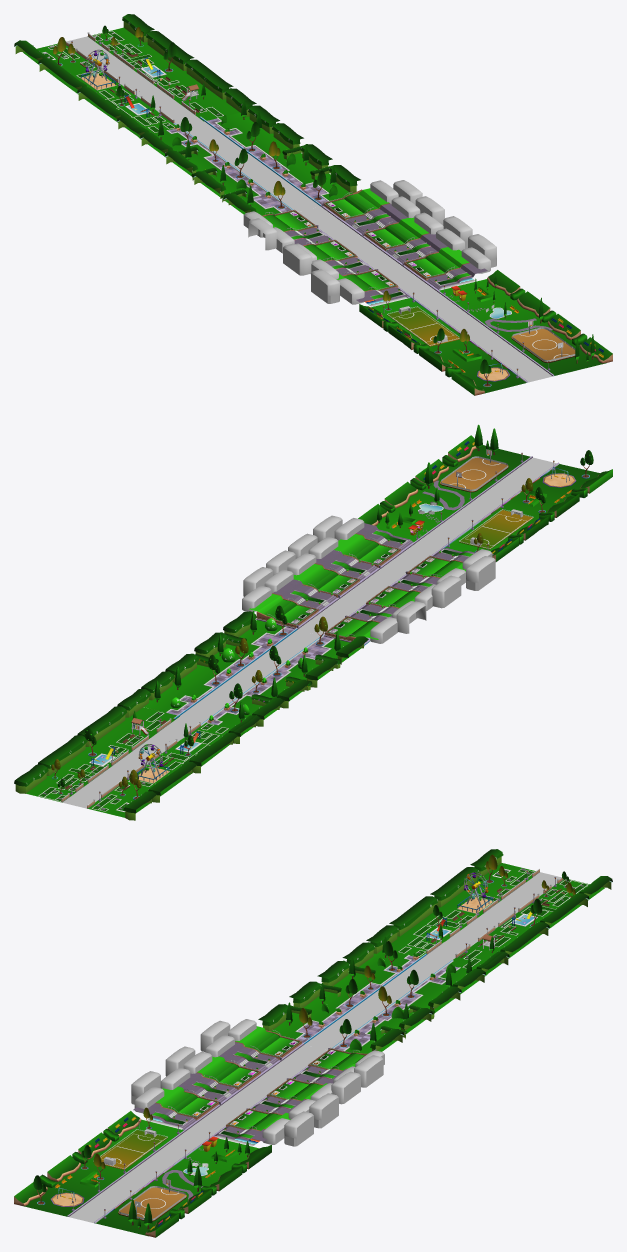
The model's file is Park.FBX.
3 views of the same model, one above another, from view 1: azimuth 30°, elevation 25°; view 2: azimuth 150°, elevation 25°; view 3: azimuth 330°, elevation 25° (orthographic).
Visible parts, largest first — view 1: Park_Patch_3, Park_Patch_4, Park_Patch_1, Park_Patch_2, Park_Patch_4 road, Park_Patch_3 road, Park_Patch_2 road, Park_Patch_1 road; view 2: Park_Patch_3, Park_Patch_4, Park_Patch_1, Park_Patch_2, Park_Patch_4 road, Park_Patch_3 road, Park_Patch_2 road, Park_Patch_1 road; view 3: Park_Patch_3, Park_Patch_4, Park_Patch_2, Park_Patch_1, Park_Patch_4 road, Park_Patch_3 road, Park_Patch_1 road, Park_Patch_2 road.
Boxes of the visible parts, x1=… form: Park_Patch_3: x1=243, y1=180, x2=496, y2=306; Park_Patch_4: x1=359, y1=270, x2=612, y2=395; Park_Patch_1: x1=14, y1=14, x2=250, y2=137; Park_Patch_2: x1=131, y1=99, x2=360, y2=215; Park_Patch_4 road: x1=414, y1=291, x2=552, y2=382; Park_Patch_3 road: x1=298, y1=206, x2=436, y2=296; Park_Patch_2 road: x1=186, y1=121, x2=320, y2=211; Park_Patch_1 road: x1=67, y1=36, x2=203, y2=126; Park_Patch_3: x1=242, y1=515, x2=495, y2=645; Park_Patch_4: x1=358, y1=424, x2=612, y2=561; Park_Patch_1: x1=14, y1=694, x2=253, y2=820; Park_Patch_2: x1=133, y1=605, x2=368, y2=732; Park_Patch_4 road: x1=415, y1=457, x2=556, y2=549; Park_Patch_3 road: x1=298, y1=544, x2=438, y2=635; Park_Patch_2 road: x1=180, y1=630, x2=320, y2=721; Park_Patch_1 road: x1=63, y1=716, x2=203, y2=808; Park_Patch_3: x1=131, y1=1019, x2=384, y2=1146; Park_Patch_4: x1=14, y1=1107, x2=271, y2=1237; Park_Patch_2: x1=258, y1=936, x2=493, y2=1053; Park_Patch_1: x1=373, y1=849, x2=612, y2=974; Park_Patch_4 road: x1=69, y1=1131, x2=210, y2=1222; Park_Patch_3 road: x1=187, y1=1044, x2=327, y2=1136; Park_Patch_1 road: x1=422, y1=872, x2=560, y2=964; Park_Patch_2 road: x1=304, y1=958, x2=445, y2=1050.
Size of the model in its own units: 783 by 142 by 3804.
